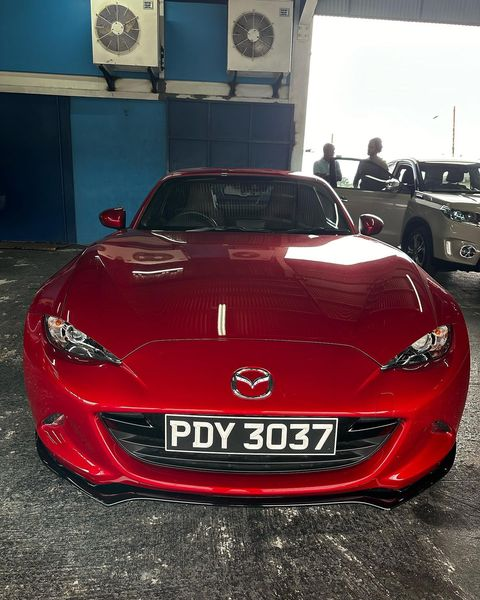License-Plate: (166, 413, 336, 450)
